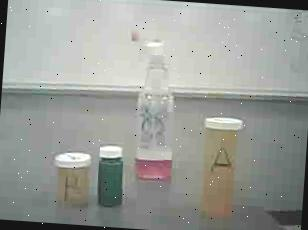Bottle A: (191, 107, 258, 226)
Bottle B: (48, 146, 98, 209)
Bottle C: (92, 138, 132, 213)
hazard: (117, 24, 188, 185)
